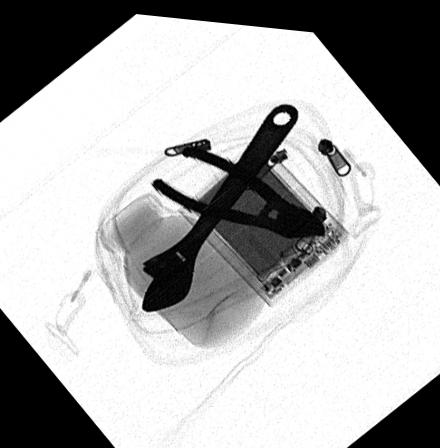Pliers: (149, 138, 326, 231)
Powerbank: (176, 133, 348, 300)
Wrench: (139, 97, 299, 309)
